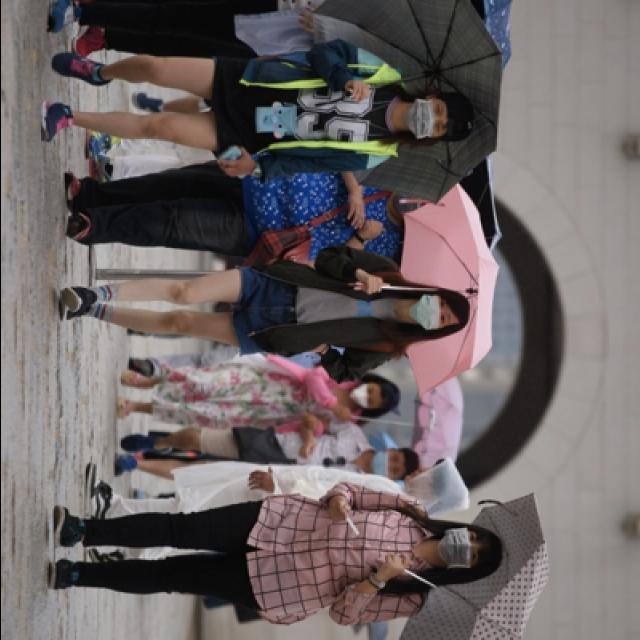with_mask: (436, 526, 482, 568), (405, 94, 448, 138), (408, 291, 454, 331), (371, 449, 403, 478), (348, 381, 378, 408)
